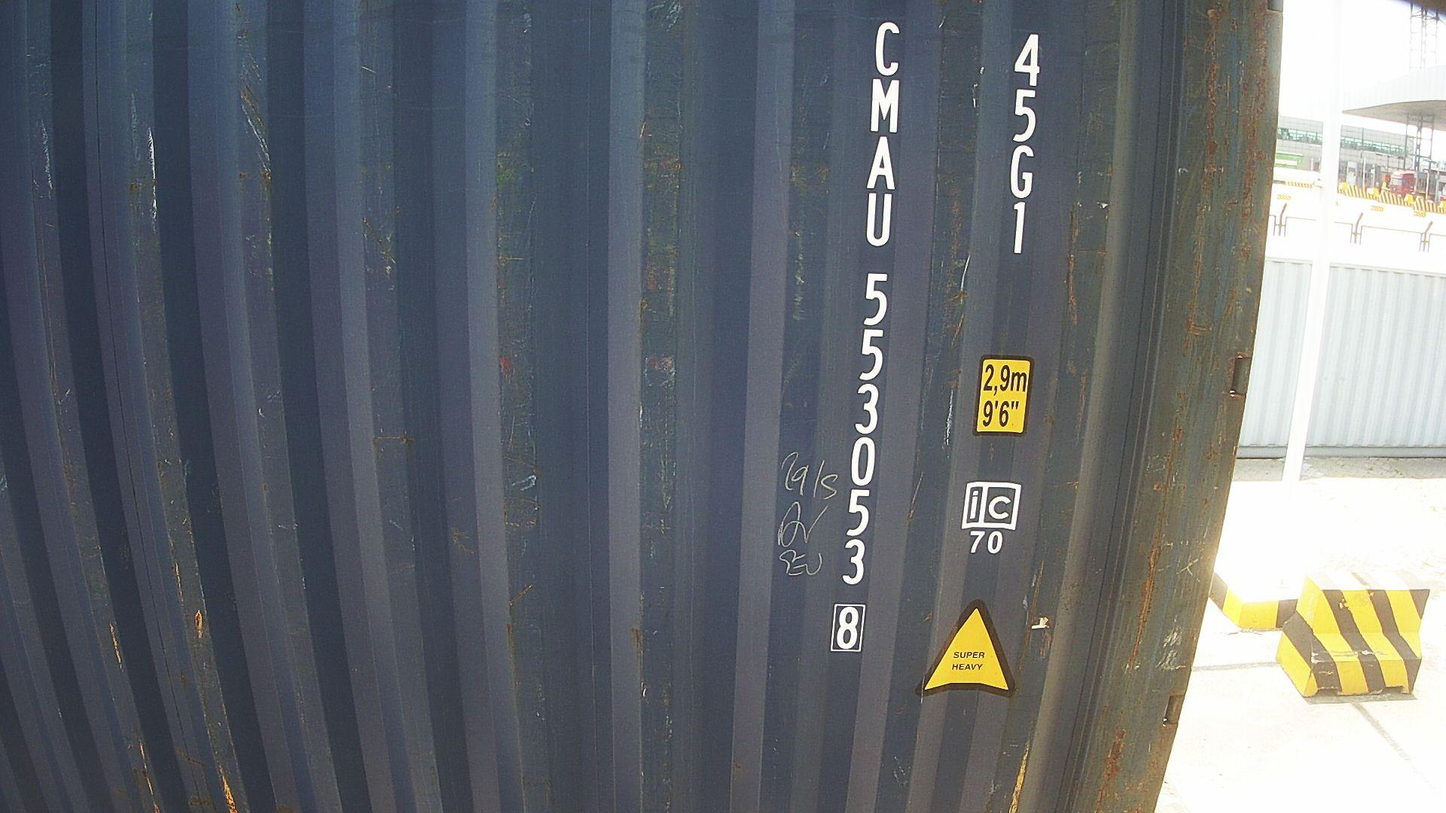container-numbers: (824, 16, 909, 660), (997, 28, 1051, 263)
